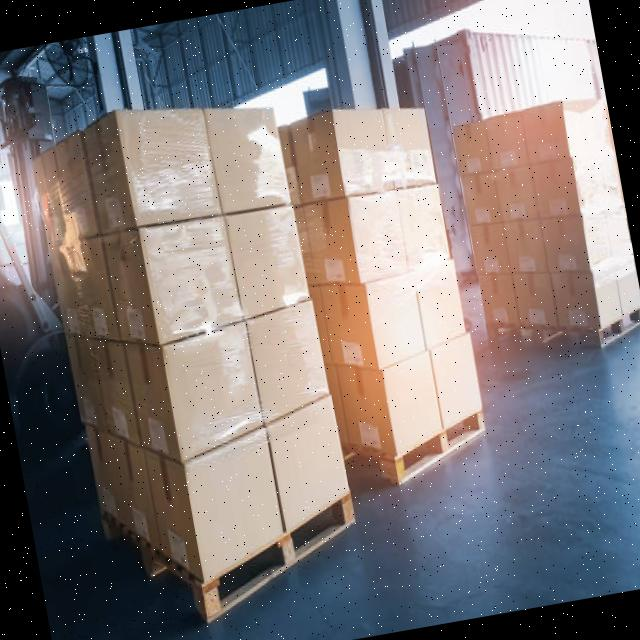Wooden-Pallets: (95, 484, 360, 626), (397, 404, 487, 496)
